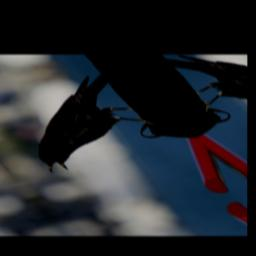Crow: (0, 70, 177, 176)
